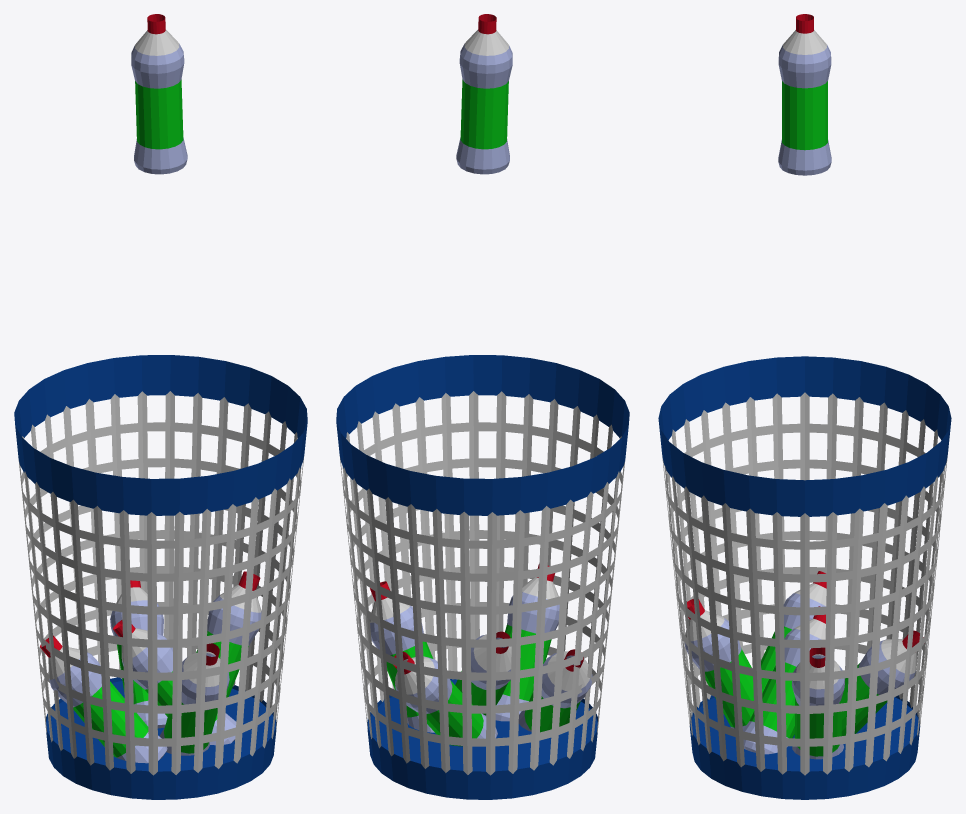
File: DustbinWithCan_000004.obj
3 views of the same model, side by side, from view 1: azimuth 30°, elevation 25°; view 2: azimuth 150°, elevation 25°; view 3: azimuth 270°, elevation 25° (orthographic).
Parts seen in each view (by area): view 1: Cylinder, Plane.006, Plane.005, Plane.001, Plane.004, Plane.003, Plane.002; view 2: Cylinder, Plane.006, Plane.001, Plane.002, Plane.005, Plane.003, Plane.004; view 3: Cylinder, Plane.006, Plane.001, Plane.003, Plane.004, Plane.002, Plane.005.
Boxes of the visible parts, bbox=[...] form: Cylinder: bbox=[14, 355, 307, 799]; Plane.006: bbox=[131, 14, 187, 174]; Plane.005: bbox=[40, 635, 167, 763]; Plane.001: bbox=[159, 643, 229, 755]; Plane.004: bbox=[113, 620, 236, 745]; Plane.003: bbox=[196, 571, 261, 697]; Plane.002: bbox=[110, 580, 167, 728]; Cylinder: bbox=[336, 355, 629, 799]; Plane.006: bbox=[456, 14, 512, 174]; Plane.001: bbox=[485, 564, 559, 721]; Plane.002: bbox=[393, 651, 497, 746]; Plane.005: bbox=[518, 649, 592, 732]; Plane.003: bbox=[369, 581, 434, 732]; Plane.004: bbox=[455, 631, 511, 715]; Cylinder: bbox=[658, 356, 951, 799]; Plane.006: bbox=[778, 14, 831, 175]; Plane.001: bbox=[684, 599, 763, 729]; Plane.003: bbox=[791, 647, 844, 759]; Plane.004: bbox=[743, 606, 825, 754]; Plane.002: bbox=[841, 630, 924, 735]; Plane.005: bbox=[761, 571, 826, 689].
Size of the model in its own units: 2.6 by 7.18 by 2.6.
